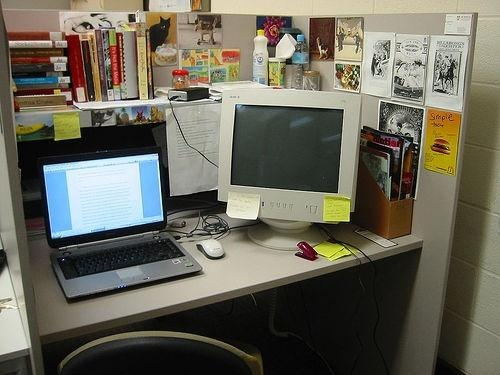bottle: (252, 29, 272, 89), (292, 32, 311, 71)
cat: (147, 16, 174, 53)
chair: (58, 330, 267, 375)
tvmonitor: (217, 90, 362, 252)
